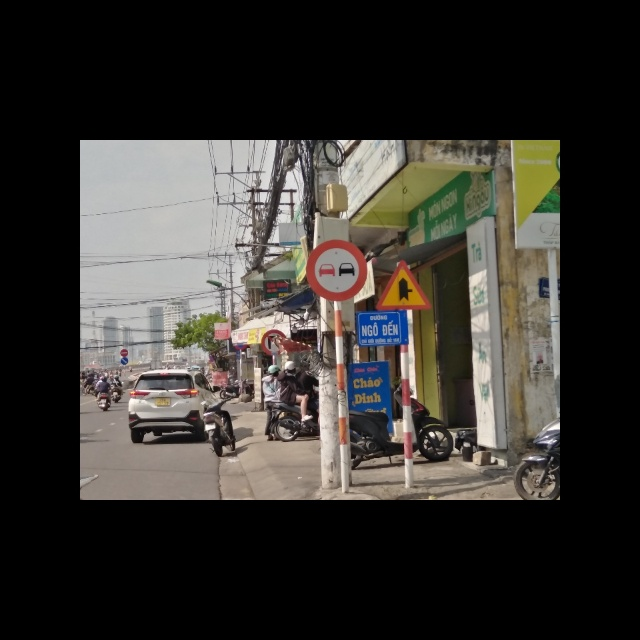Cấm vượt: (307, 239, 368, 301)
Giao nhau với đường không ưu tiên: (375, 258, 433, 311)
